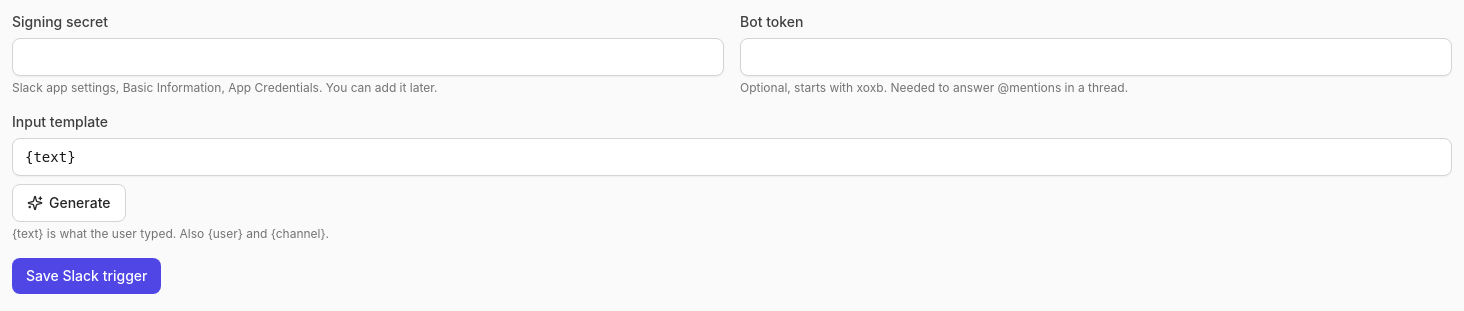
Test: Trigger forms › slack: Generate fills the input template
What coordinates should you click on to do the following:
click the button with aria-label "Generate a template from the event"
I would click on:
 (69, 203)
Its box is [12,184,126,222].
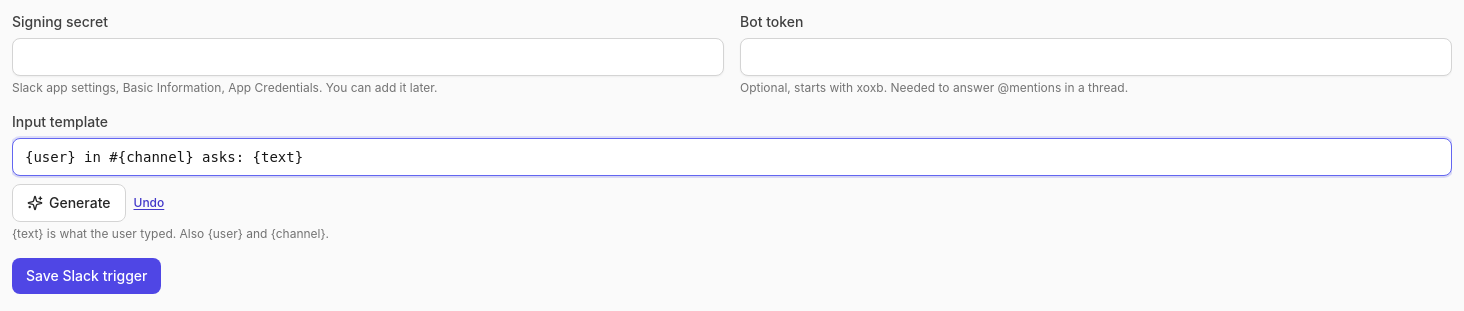
Expected: the field labelled "Input template" holds "{user} in #{channel} asks: {text}", [12,138,1452,176]
